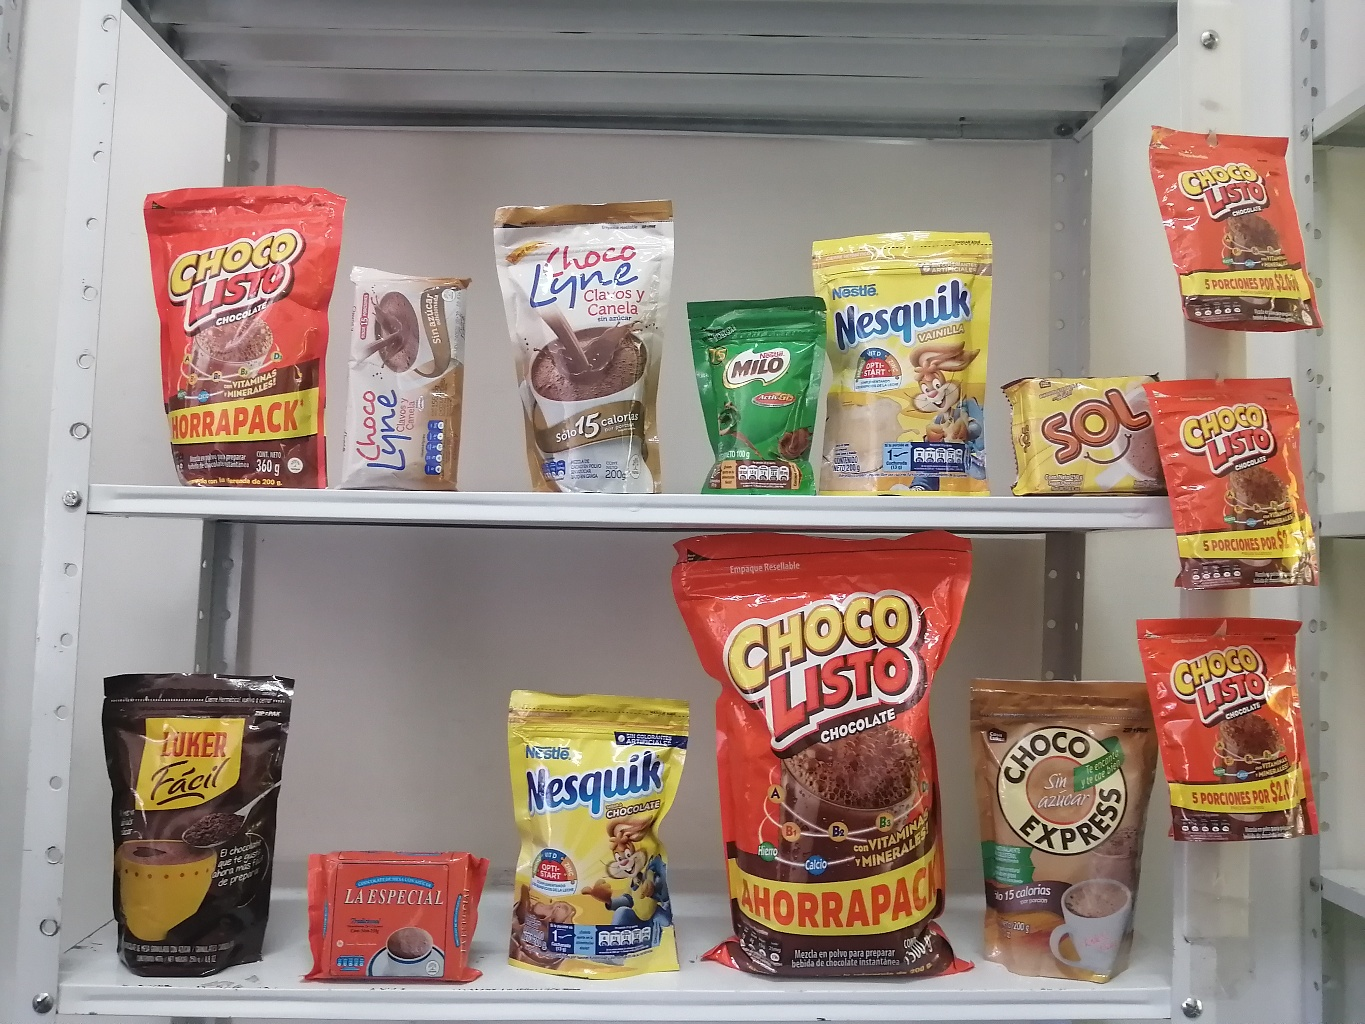COL0170103DYP1,500: (651, 522, 1004, 994)
COL0170103DYP36000: (124, 162, 353, 503)
COL0170203DYP10000: (672, 279, 831, 515)
COL0170303DYP20000: (488, 665, 719, 992)
COL0170306DYP20000: (796, 213, 1001, 504)
